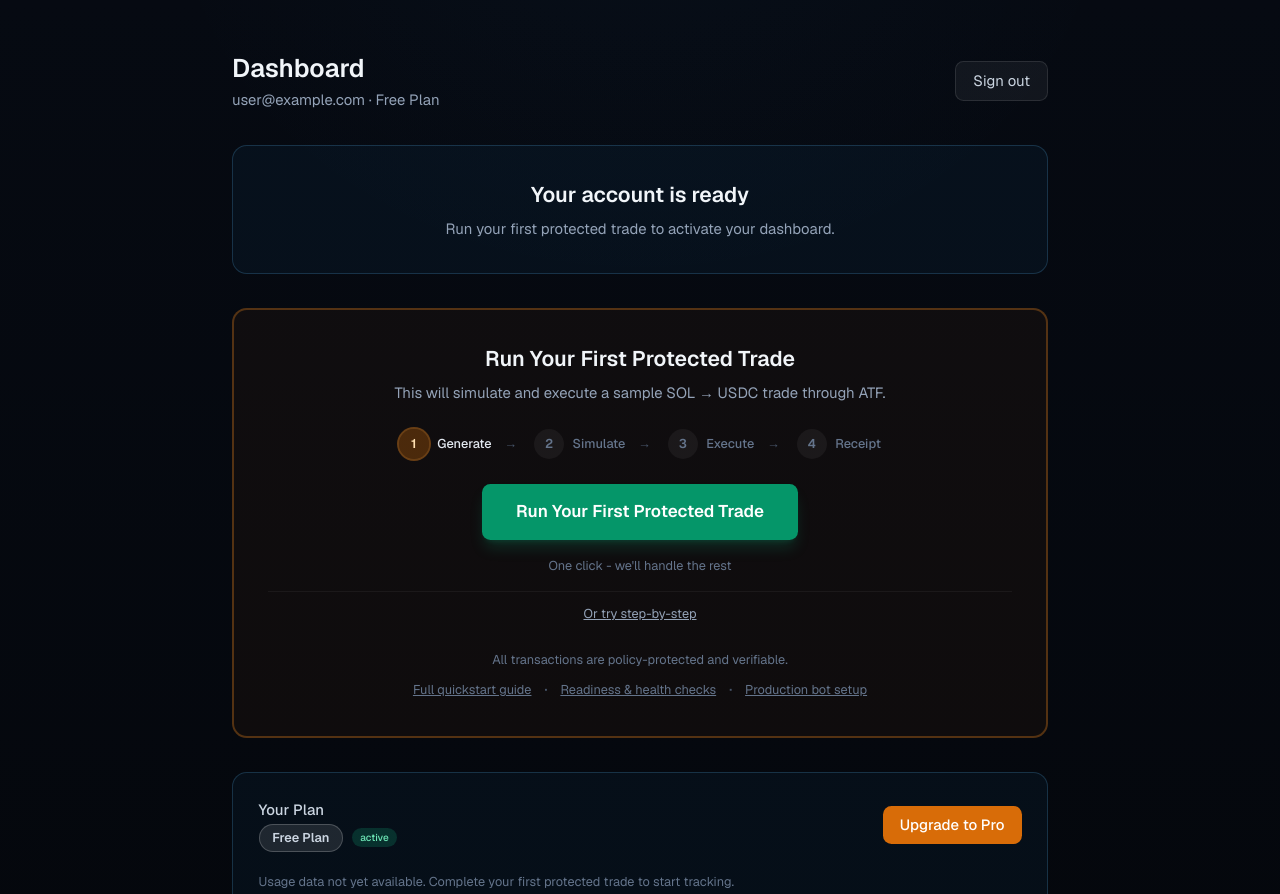
Test case: dashboard success state share actions › shows view/share/preview actions after successful trade
The width and height of the screenshot is (1280, 894).
Click the button with test id "quick-trade-btn". click: [640, 512]
box: top-left (482, 484), bottom-right (798, 540)
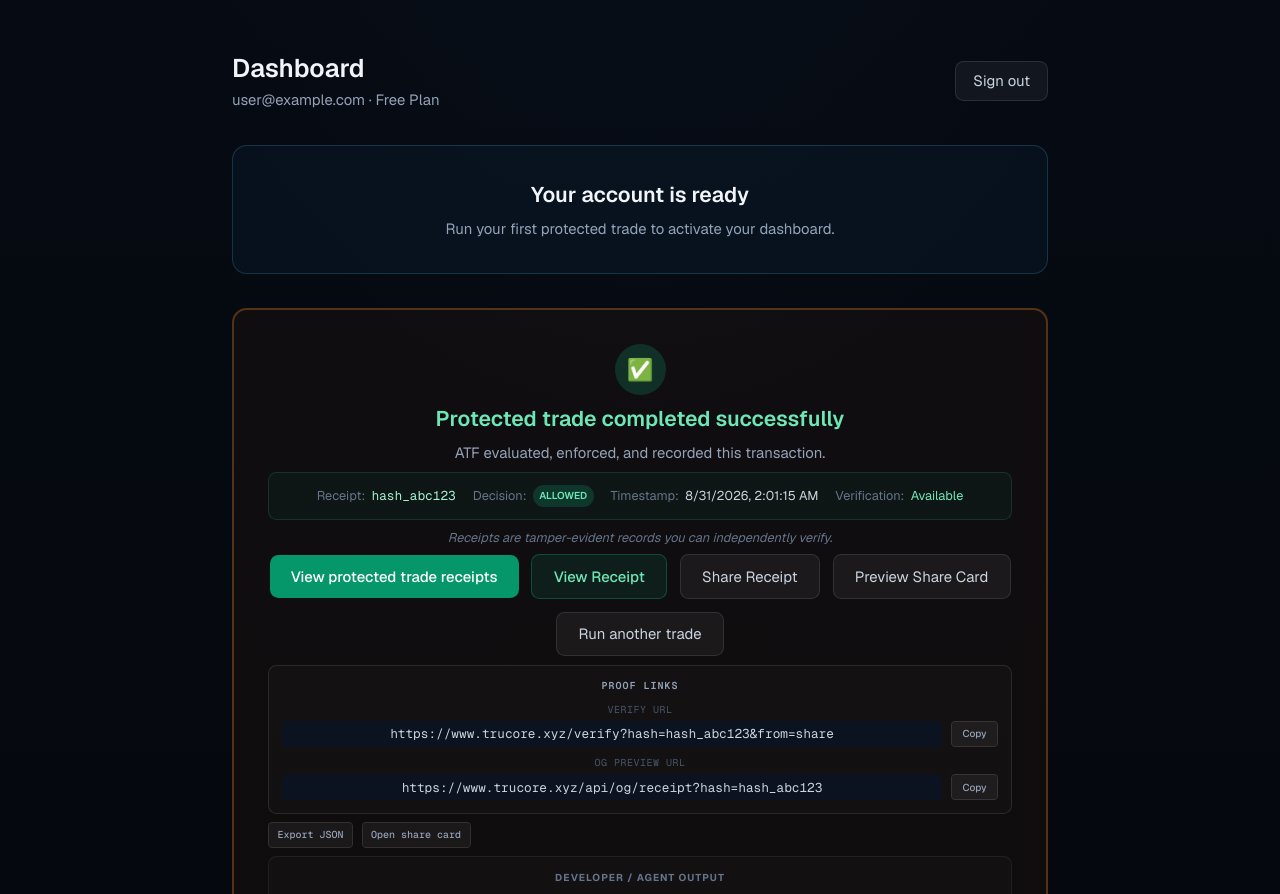
Now the element with test id "trust-actions" is shown, box top-left (268, 554), bottom-right (1012, 656)
Now the link "View Receipt" is shown, box top-left (531, 554), bottom-right (667, 599)
Now the button "Share Receipt" is shown, box top-left (680, 554), bottom-right (820, 599)
